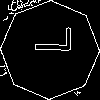L: (25, 25, 71, 54)
